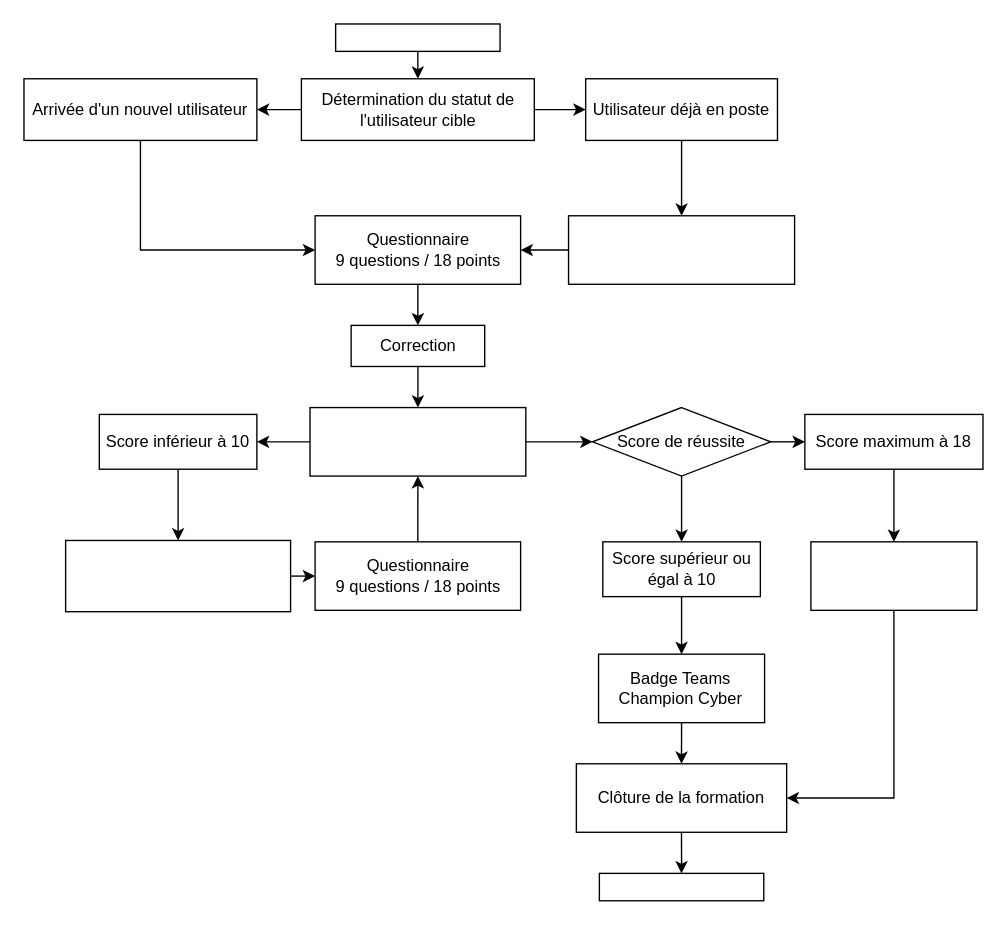
This 1007x925 diagram has some shape labels left out. Each missing label, with the centre of its shape:
Accompagnement prolongé lors d'une prochaine session: [177,575]
Badge Teams Expert Cyber: [893,575]
Début: [417,37]
Fin: [681,886]
Programmation d'une formation présentielle ou en distanciel: [681,249]
Vérification des réponses et du score: [417,441]
